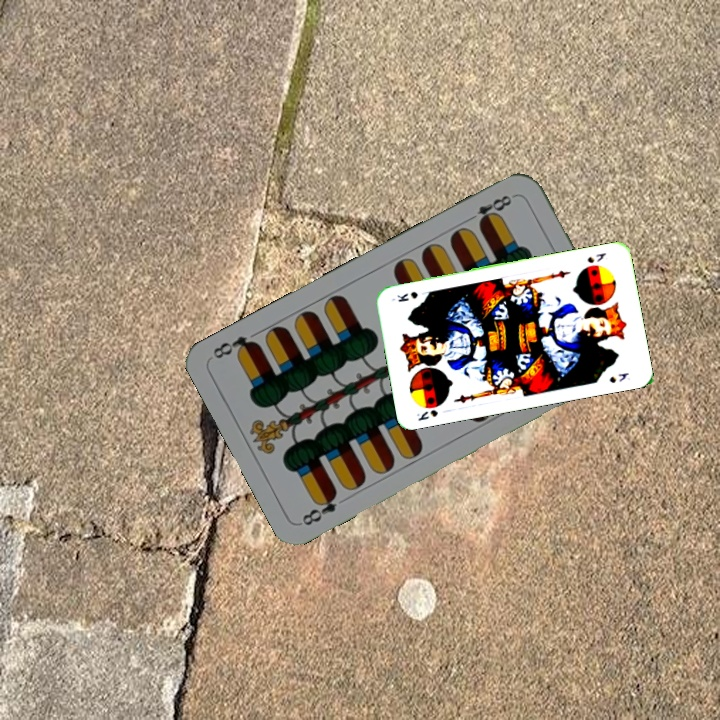E8: (463, 190, 518, 229), (298, 487, 340, 529)
SK: (413, 406, 440, 423), (583, 249, 609, 266)
